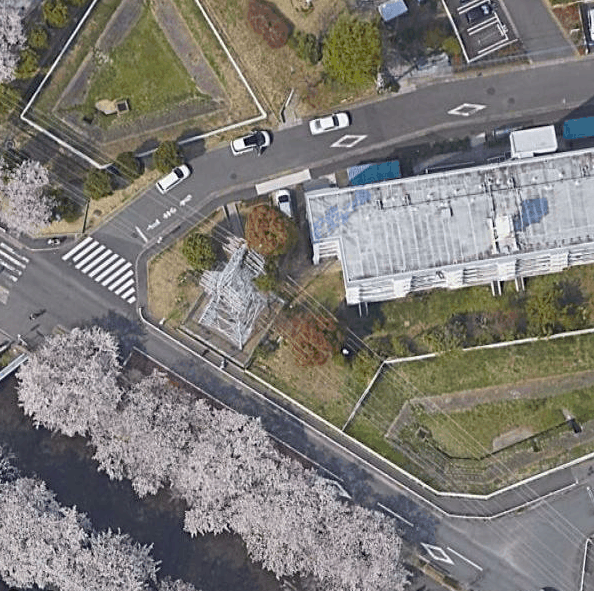flatroof: (295, 138, 593, 294)
